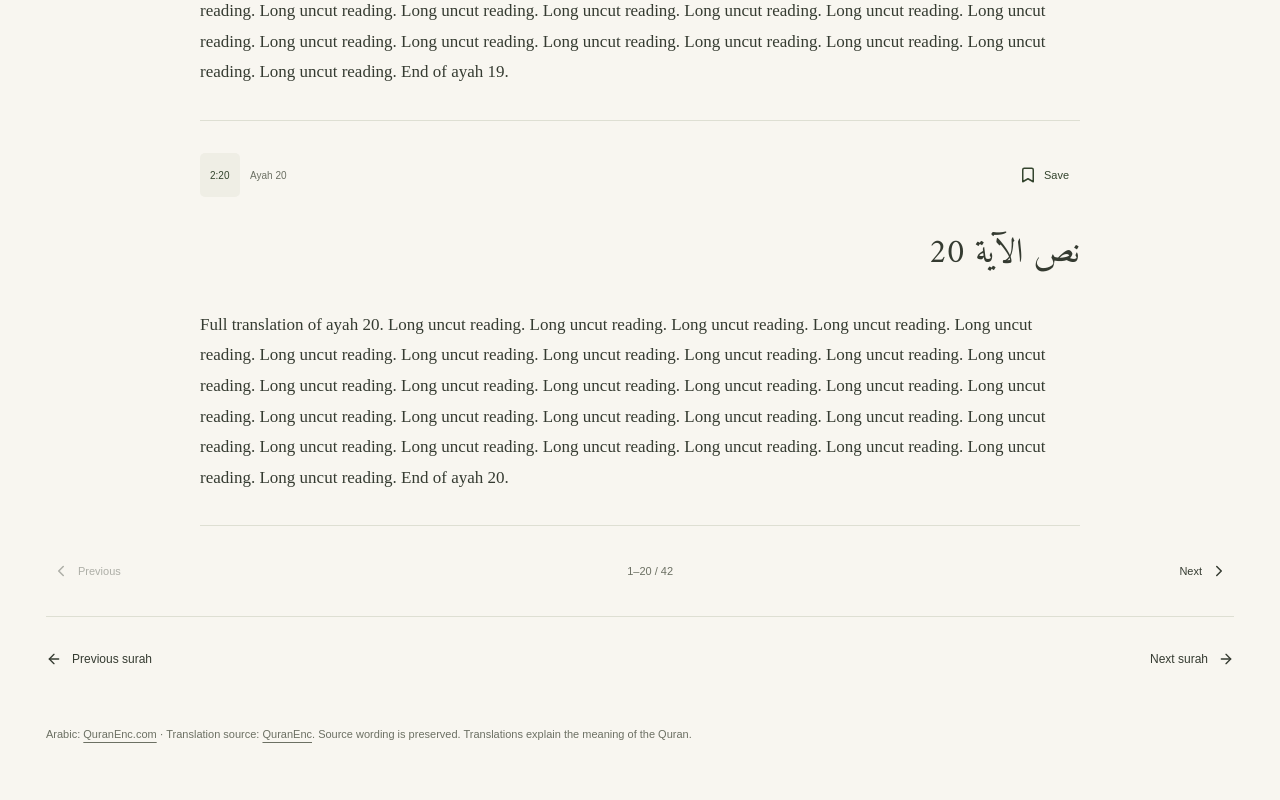
reader shows 20 full ayahs, crosses the page boundary and retains the last ayah text
(page scrolled)
What coordinates should you click on to do the following:
click the button "Next"
I would click on:
 (1204, 571)
Its box is [1173,549,1234,593].
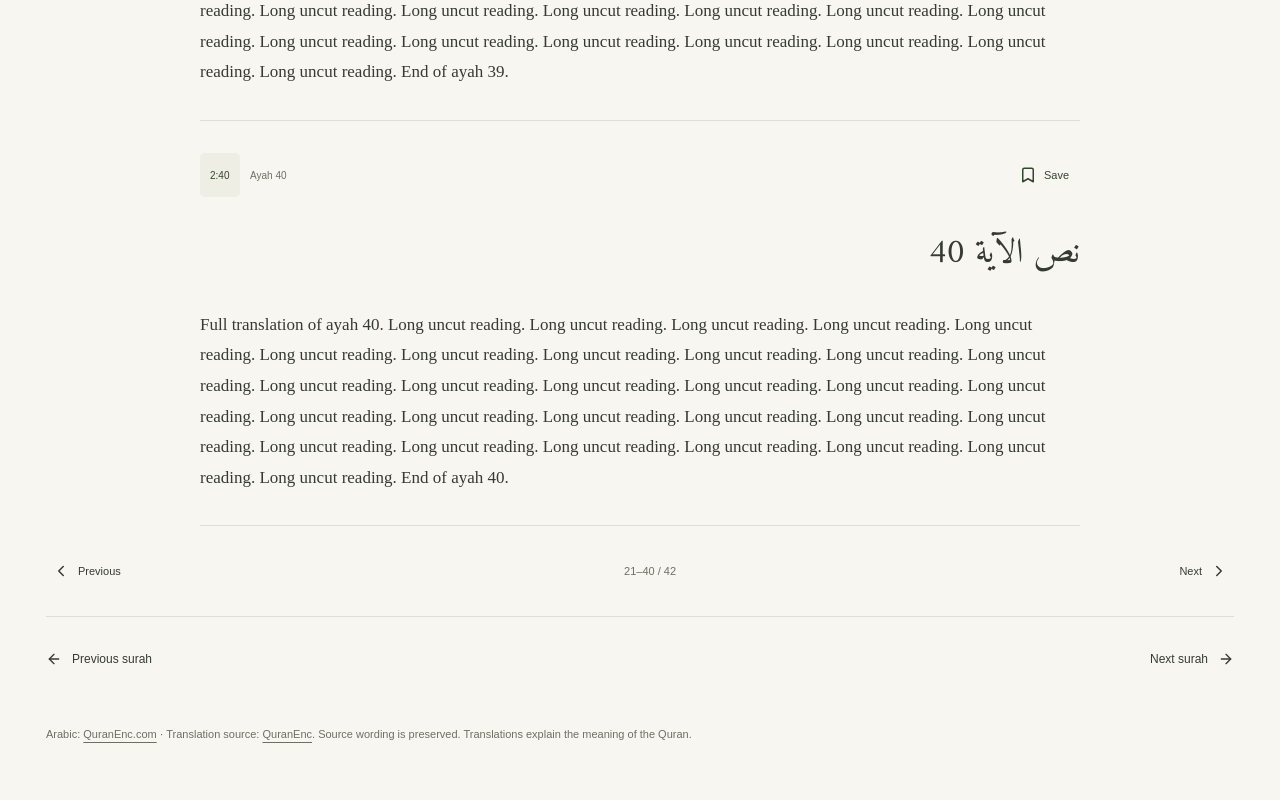
What coordinates should you click on to do the following:
click the button "Next"
I would click on:
 (1204, 571)
Its box is [1173,549,1234,593].
(page scrolled)
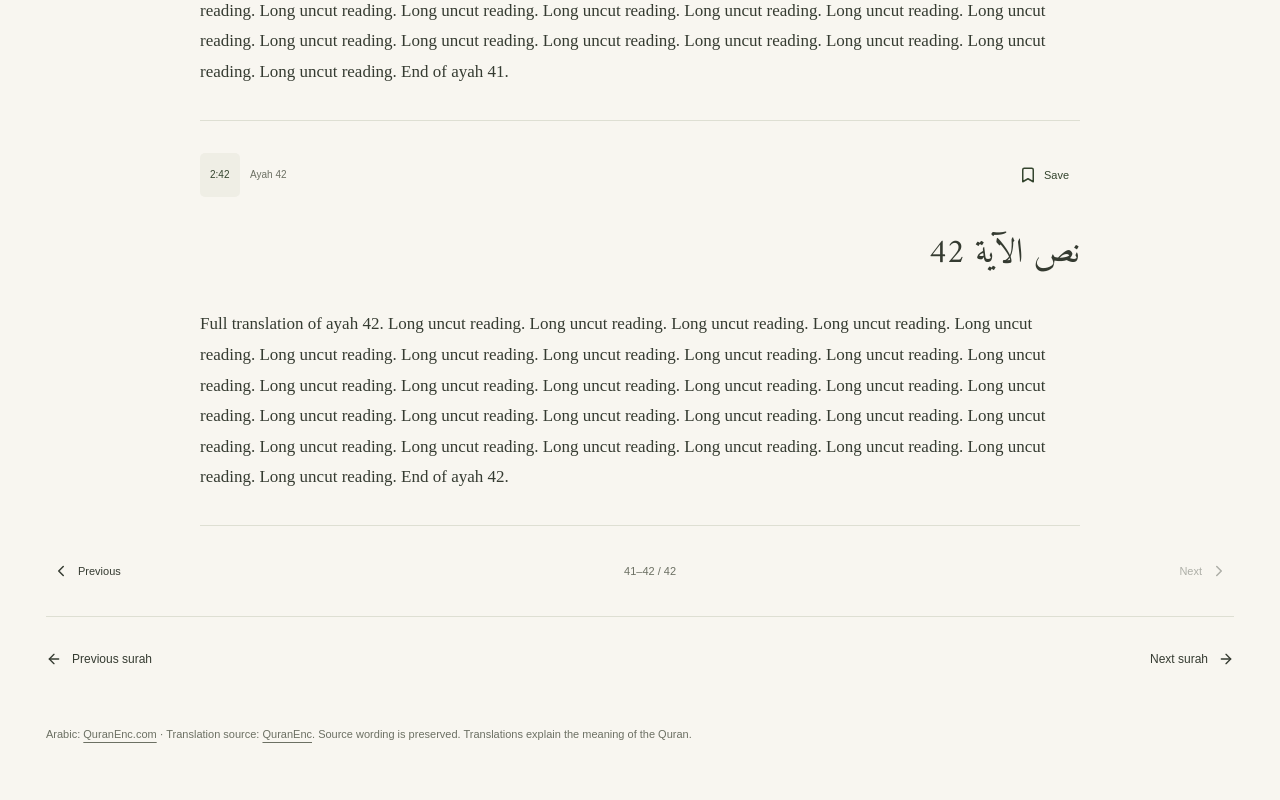
expect the element with id "ayah-42" is shown: met, box [200,120,1080,526]
expect the button "Next" is disabled: met, box [1173,549,1234,593]
